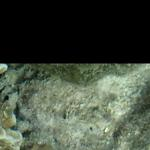dead: (2, 64, 148, 148)
